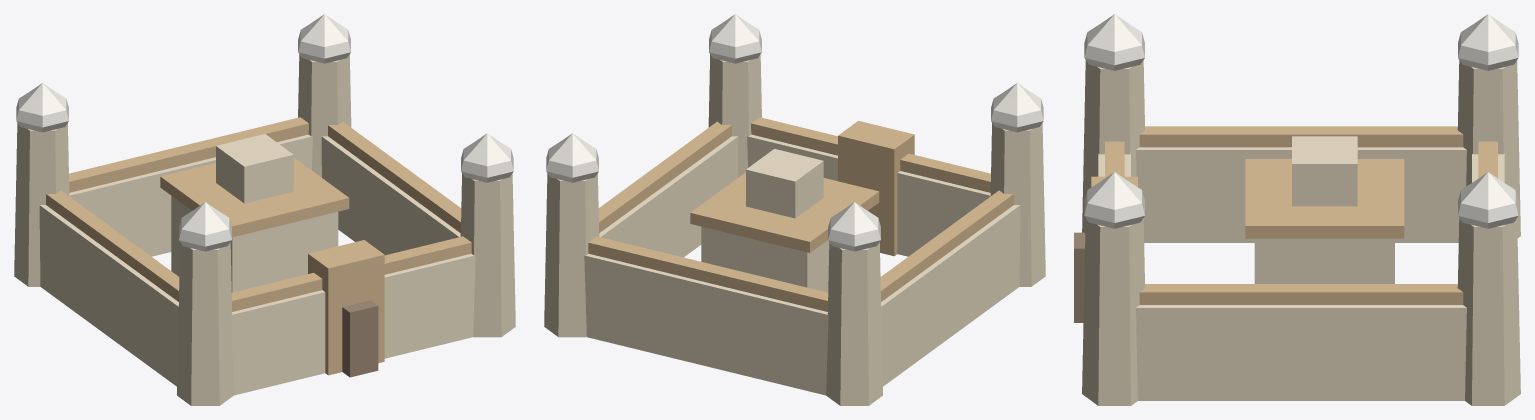
The model's file is fort.glb.
3 renders of one model, left to right at view 1: azimuth 30°, elevation 25°; view 2: azimuth 150°, elevation 25°; view 3: azimuth 270°, elevation 25°, orthographic. The views are drawn at different scales.
Visible parts, largest first — view 1: desert_fort; view 2: desert_fort; view 3: desert_fort.
Boxes of the visible parts, x1,y1,x2,y2 form: desert_fort: [14, 14, 515, 405]; desert_fort: [544, 14, 1045, 405]; desert_fort: [1074, 14, 1520, 405].
Size of the model in its own units: 0.95 by 0.5276 by 0.957.
